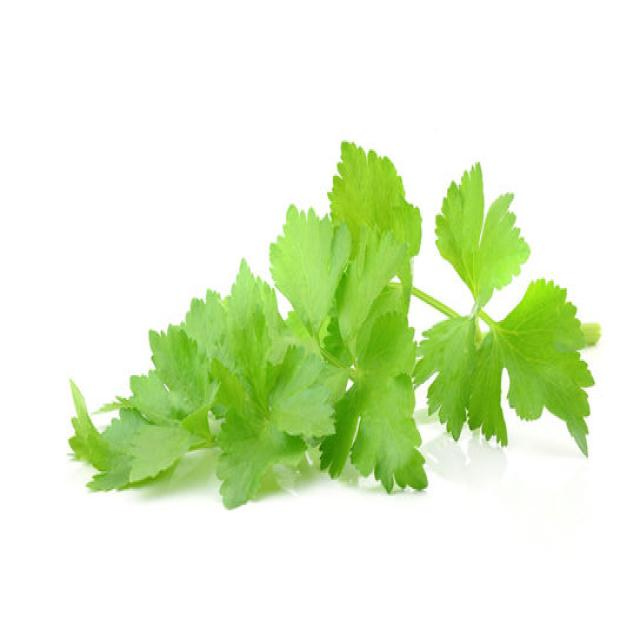Coriander Leaves: (66, 138, 600, 508)
